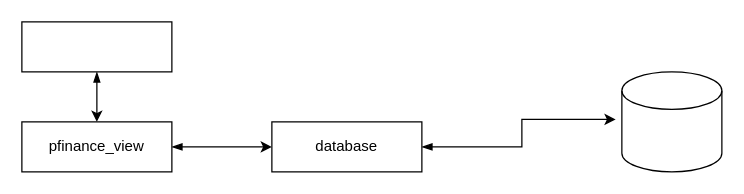
The diagram is 744 pixels wide and 194 high, and some of its shapes have lost their labels. The box of each missing label's shape, as (x1, y1, x2, y2) in pixels:
pfinance_main_app: (21, 21, 172, 72)
pfinancedb: (621, 71, 722, 172)
